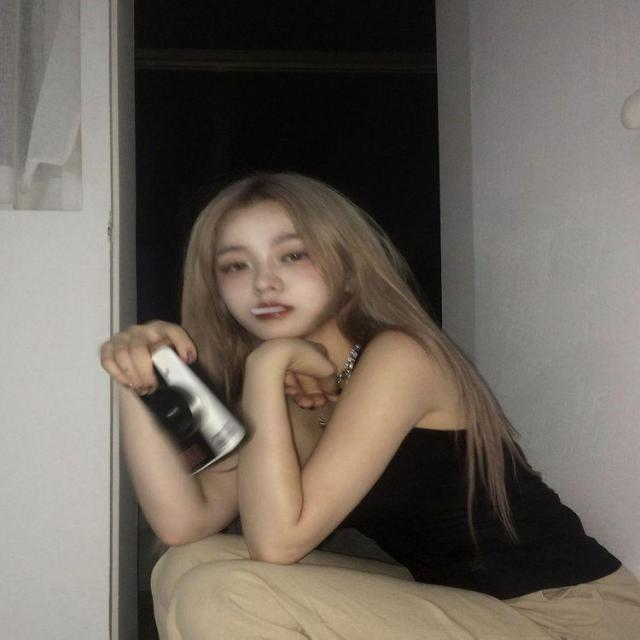cigarette: (233, 292, 288, 322)
